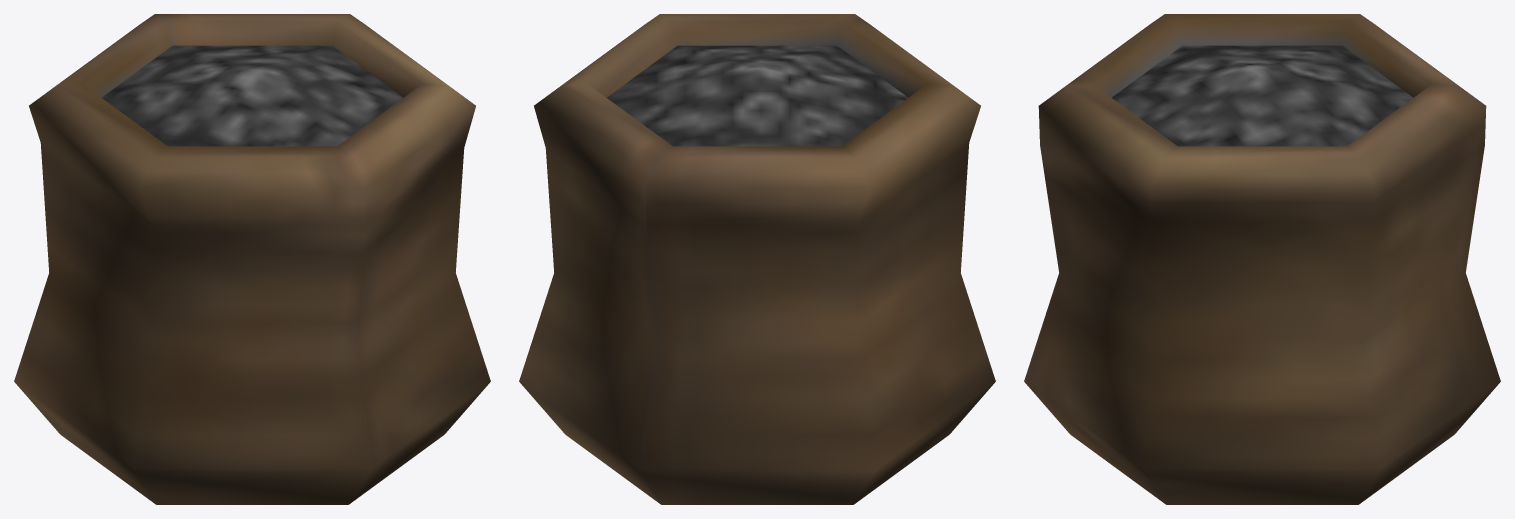
The model's file is cargobag_metal.FBX.
3 renders of one model, left to right at view 1: azimuth 30°, elevation 25°; view 2: azimuth 150°, elevation 25°; view 3: azimuth 270°, elevation 25°, orthographic.
Visible parts, largest first — view 1: Cylinder014; view 2: Cylinder014; view 3: Cylinder014.
Part boxes in pixels (box(x1,y1,x2,y2)): Cylinder014: box(14, 14, 490, 504); Cylinder014: box(519, 14, 995, 504); Cylinder014: box(1024, 14, 1500, 504).
Size of the model in its own units: 14.54 by 16.78 by 14.17.
